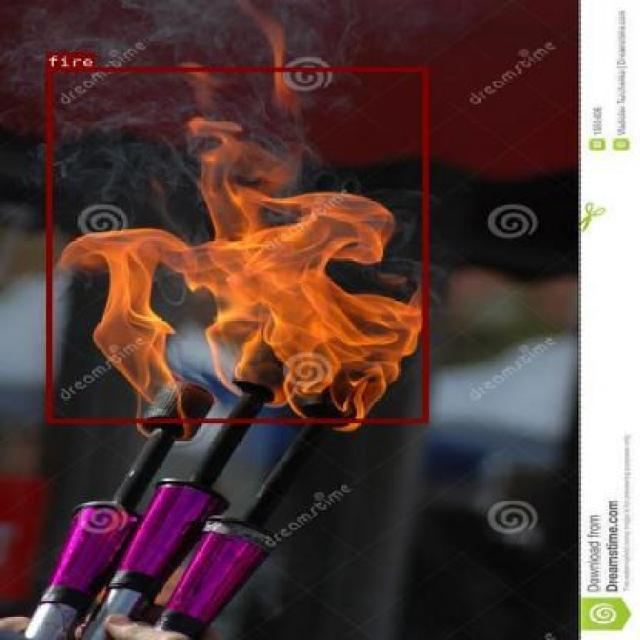Fire: (65, 79, 413, 402)
